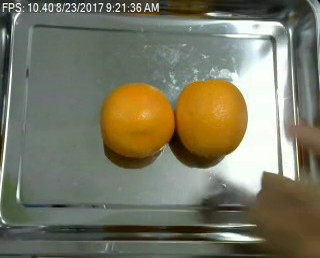Orange: (101, 82, 174, 158), (176, 79, 248, 156)
